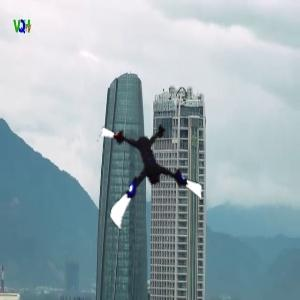drone: (99, 119, 209, 229)
